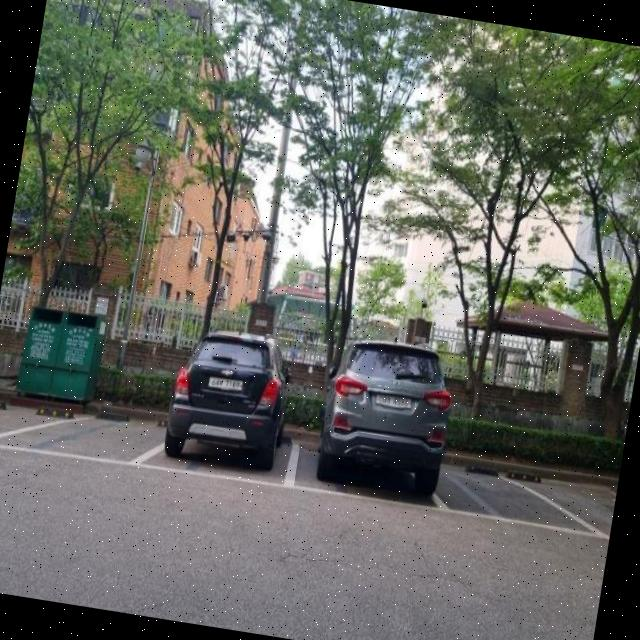Car: (296, 317, 466, 513), (156, 318, 308, 484)
Free: (442, 425, 624, 544), (0, 357, 171, 472)
